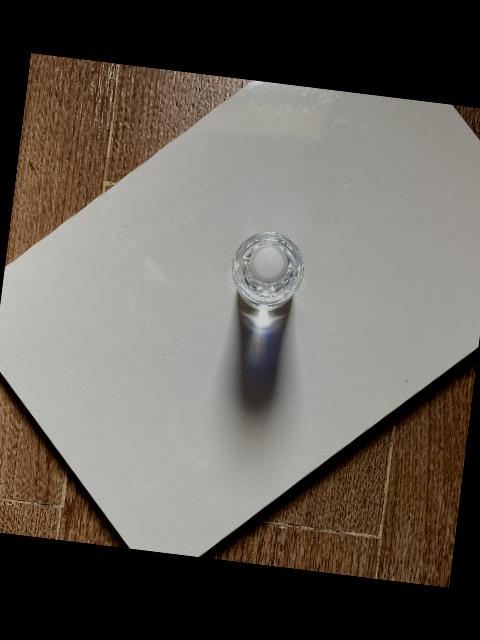aquafina: (230, 231, 303, 311)
